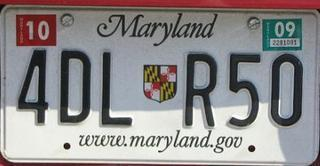placa de veiculo: (6, 4, 311, 164)
